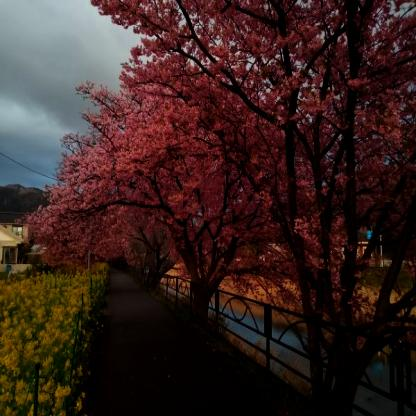KawazuSakura: (17, 0, 416, 415)
